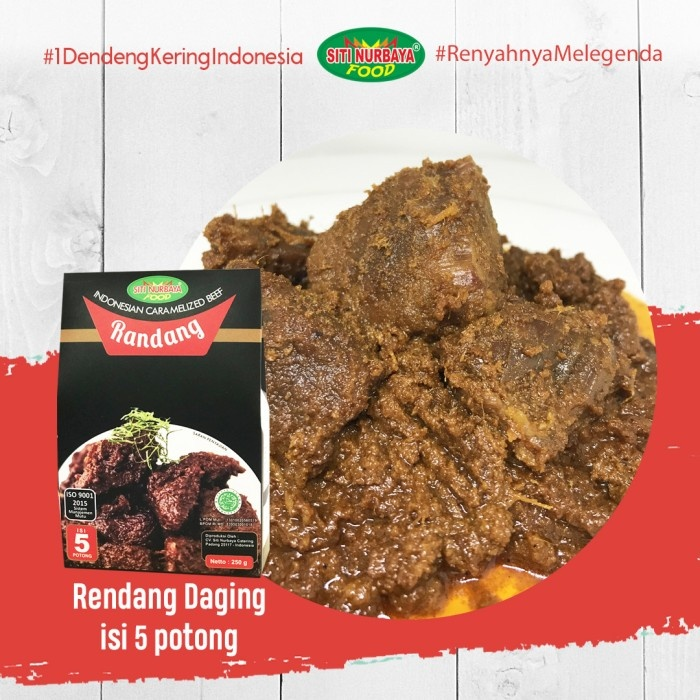rendang: (278, 150, 598, 609)
